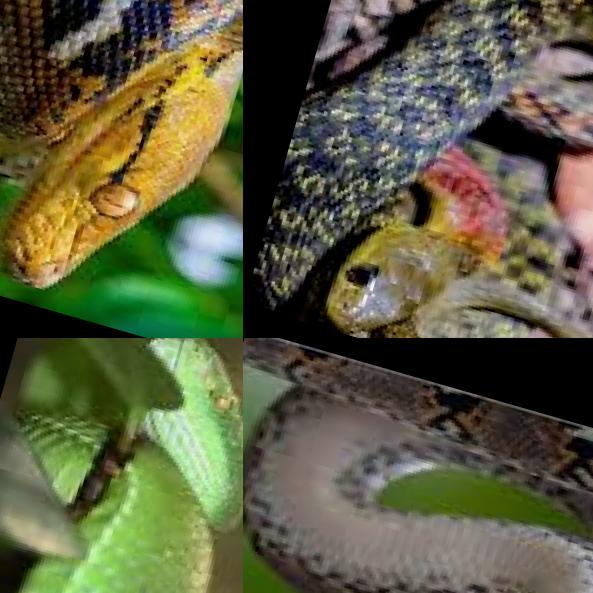snake: (243, 0, 593, 338), (243, 338, 593, 593), (0, 0, 243, 338), (0, 338, 243, 593)
